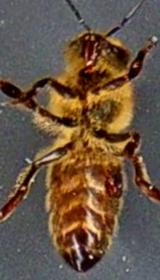varroa_mite: (94, 166, 132, 200)
